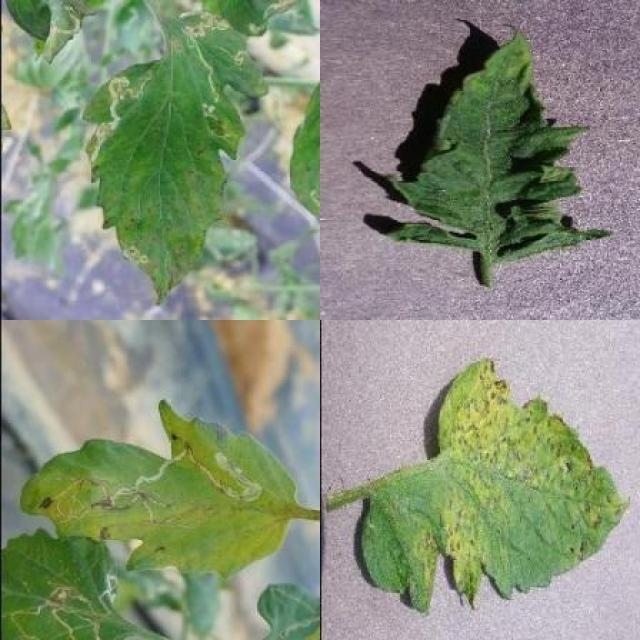Leaf Miner: (82, 9, 268, 307), (18, 397, 296, 580)
Mosaic Virus: (379, 25, 615, 262)
Septoria: (360, 356, 627, 615)
